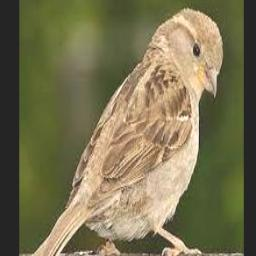Sparrow: (25, 8, 222, 256)
